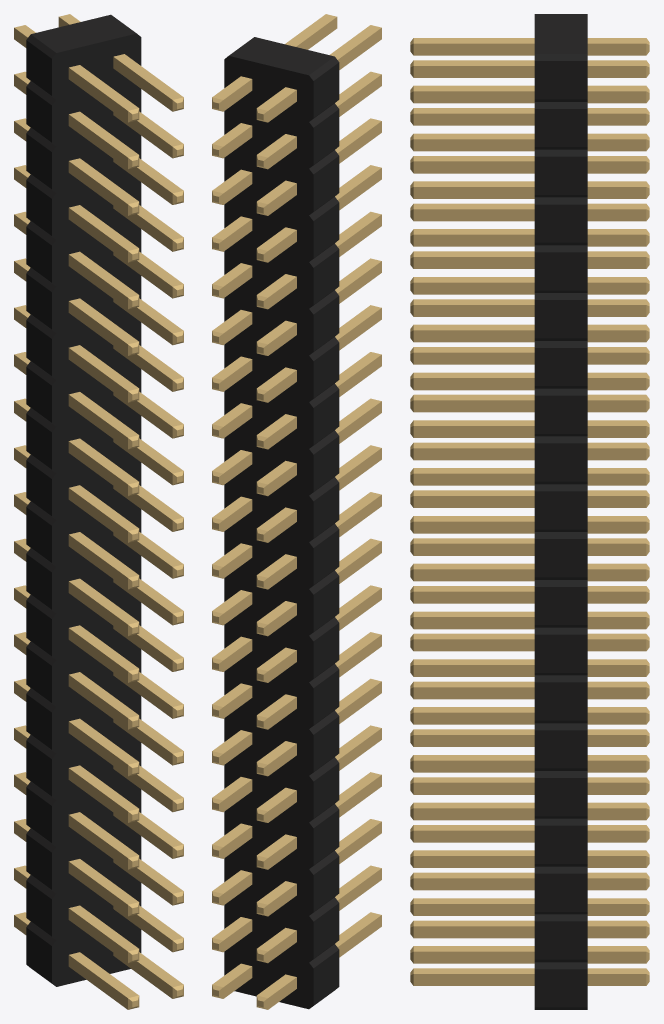
File: header-2x20.glb
3 renders of one model, left to right at view 1: azimuth 30°, elevation 25°; view 2: azimuth 150°, elevation 25°; view 3: azimuth 270°, elevation 25°, orthographic. The views are drawn at different scales.
Parts seen in each view (by area): view 1: IC-BODY-EPOXY-04, PIN-02; view 2: IC-BODY-EPOXY-04, PIN-02; view 3: PIN-02, IC-BODY-EPOXY-04.
Boxes of the visible parts, x1,y1,x2,y2 form: IC-BODY-EPOXY-04: (26,14,141,986); PIN-02: (14,14,183,1009); IC-BODY-EPOXY-04: (224,37,339,1009); PIN-02: (212,14,381,1009); PIN-02: (410,38,649,985); IC-BODY-EPOXY-04: (534,14,587,1009).
Size of the model in its own units: 5.08 by 50.8 by 11.54.
